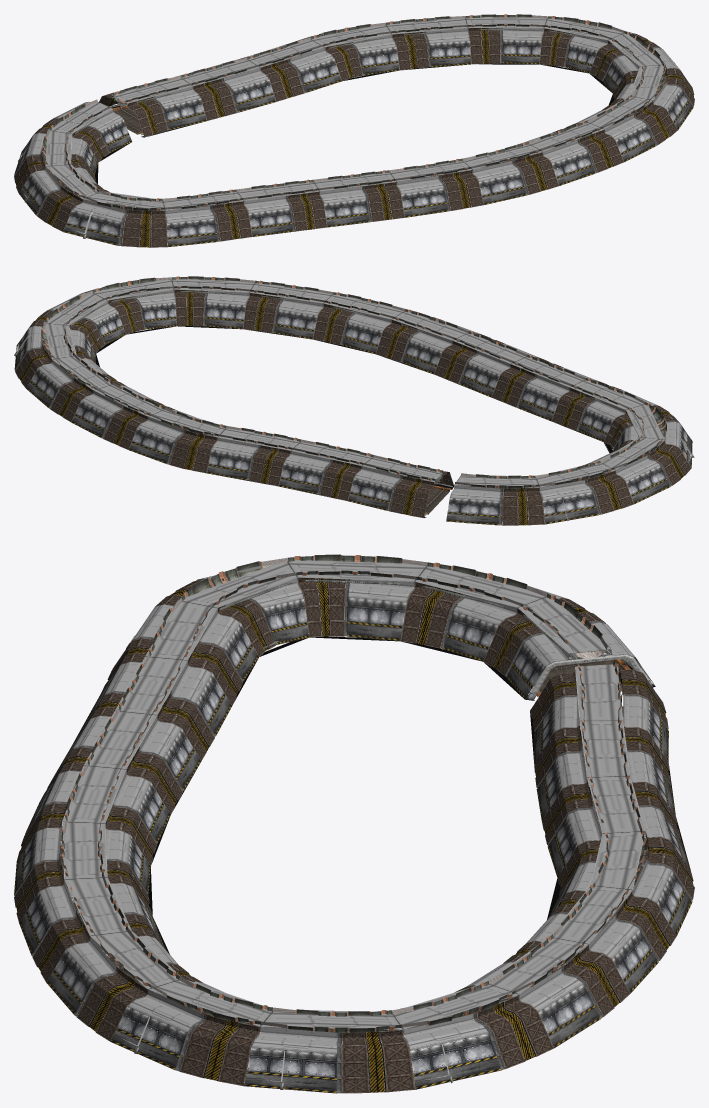
The model's file is testiram_cijelu_traku_traka12_offset.obj.
The picture shows the model from 3 angles, top to bottom: view 1: azimuth 30°, elevation 25°; view 2: azimuth 150°, elevation 25°; view 3: azimuth 270°, elevation 25°; orthographic projection. The views are drawn at different scales.
Size of the model in its own units: 25.26 by 1.08 by 14.15.
